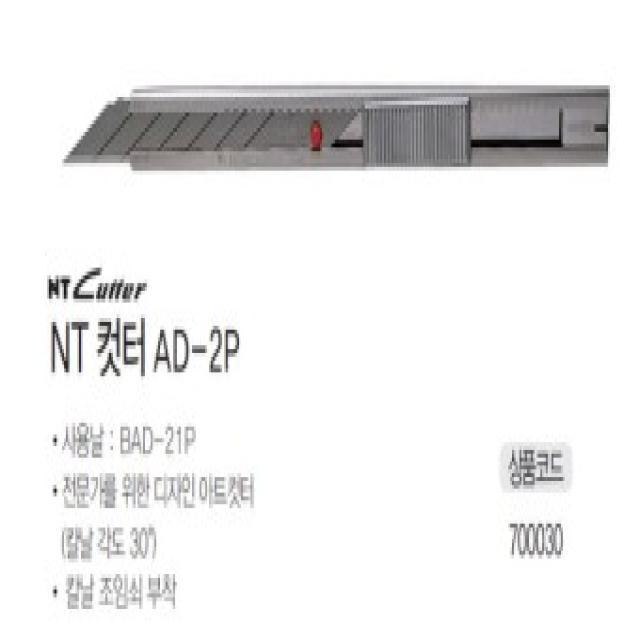cutter: (68, 70, 612, 196)
